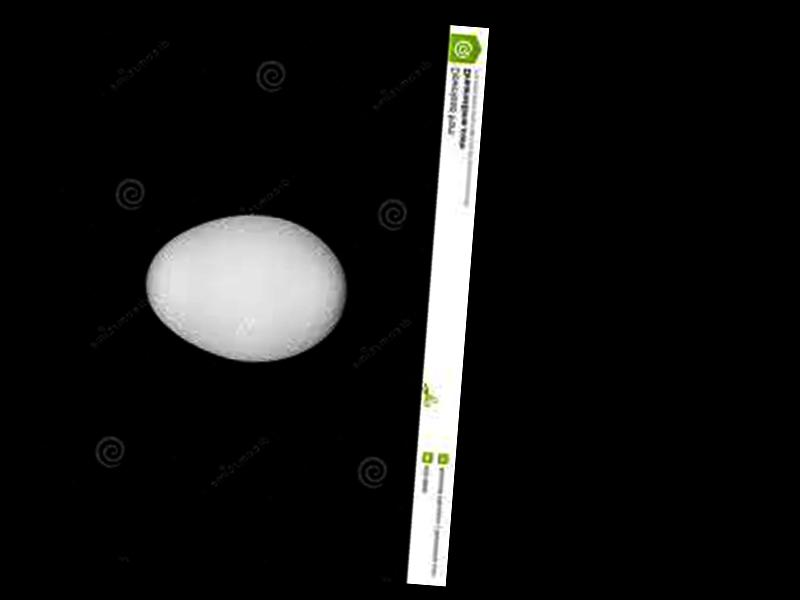Eggs: (140, 208, 352, 372)
